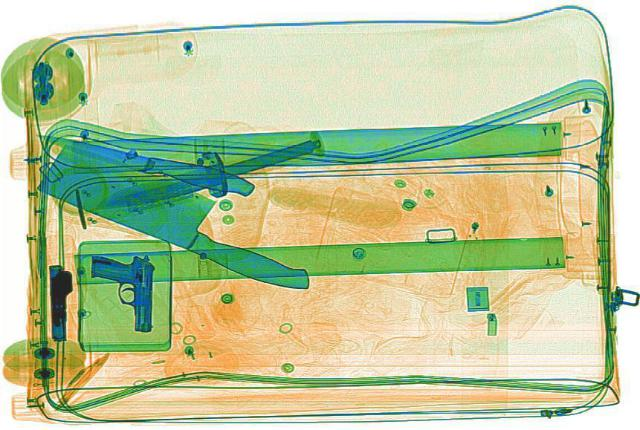Gun: (88, 252, 156, 329), (48, 263, 74, 338)
Knife: (21, 141, 346, 293), (86, 134, 322, 216), (30, 119, 258, 199)
